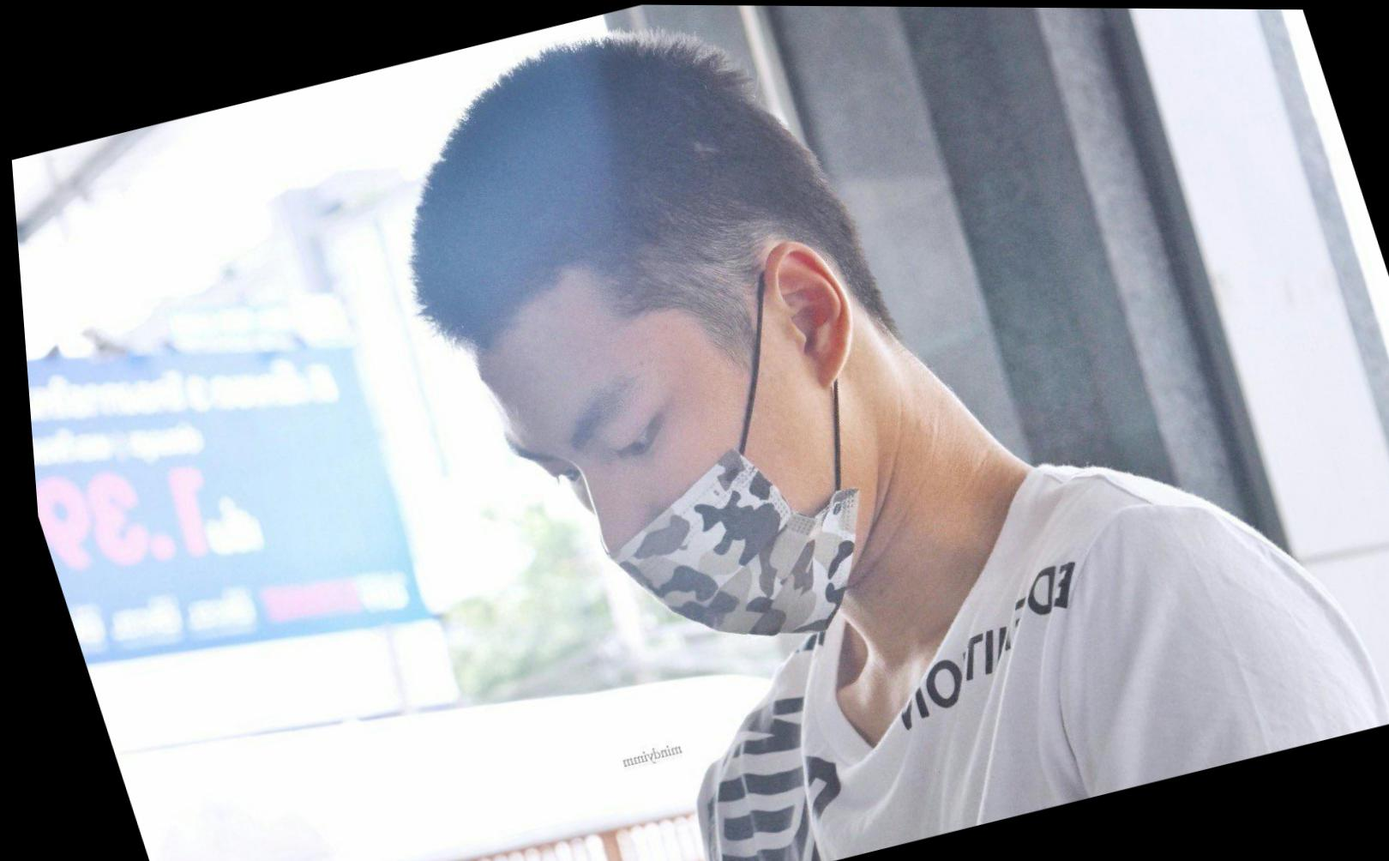WRONG: (466, 260, 884, 691)
